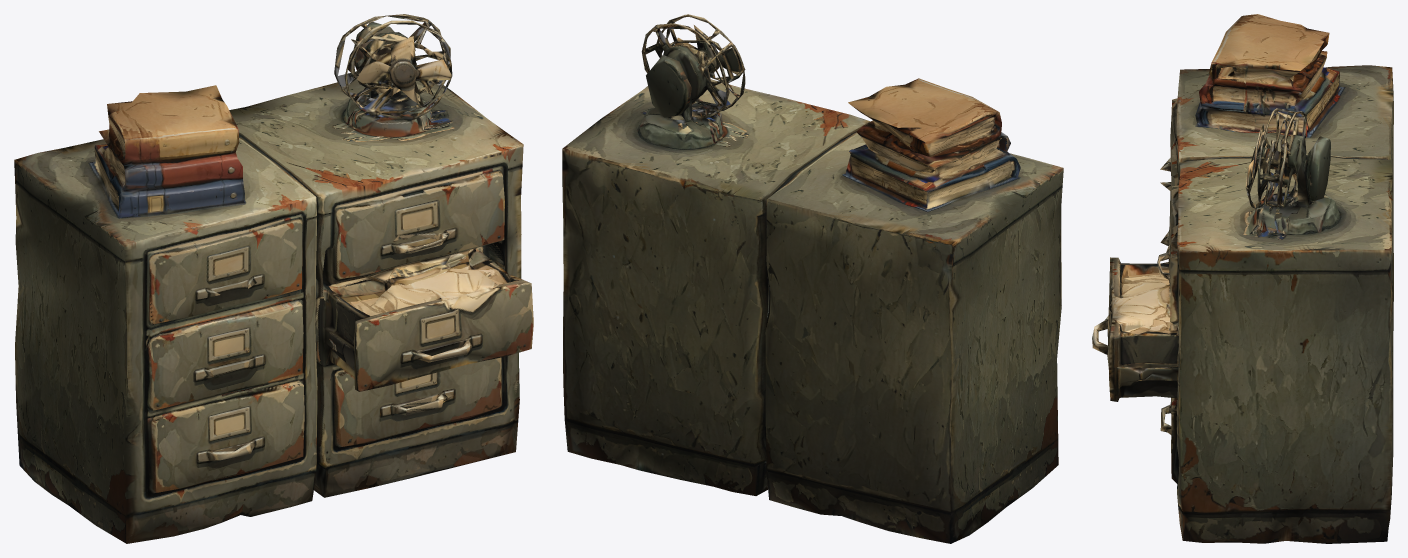
File: EX_Camp_Cabinet.fbx
3 views of the same model, side by side, from view 1: azimuth 30°, elevation 25°; view 2: azimuth 150°, elevation 25°; view 3: azimuth 270°, elevation 25° (orthographic). The views are drawn at different scales.
Parts seen in each view (by area): view 1: texture_mapping; view 2: texture_mapping; view 3: texture_mapping.
Part boxes in pixels (x1=…): texture_mapping: x1=14, y1=14, x2=533, y2=543; texture_mapping: x1=562, y1=14, x2=1063, y2=543; texture_mapping: x1=1092, y1=14, x2=1393, y2=543.
Bounding box in the file's own units: 1 × 0.6868 × 0.9978.
Materials: 1 (1 with a texture image).
